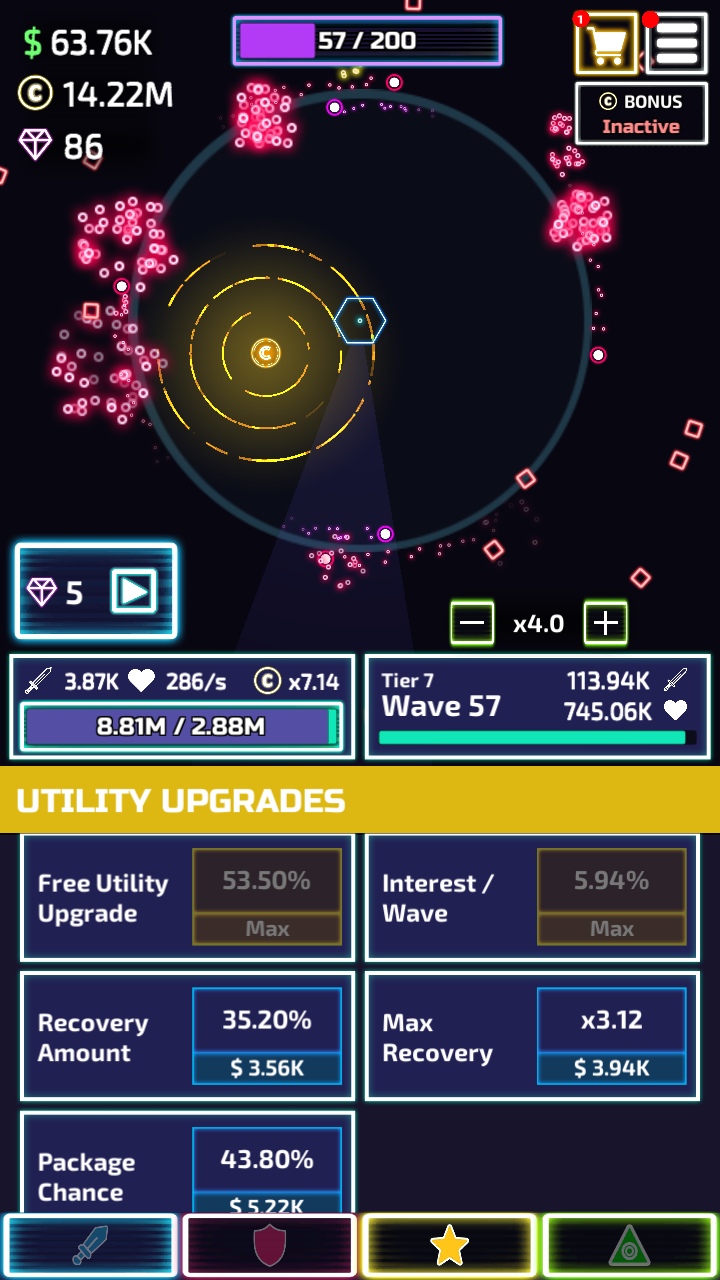B_Gem_Ad: (14, 540, 179, 637)
B_Menu_Action_Required: (638, 7, 703, 70)
B_Menu_Closed: (572, 9, 707, 74)
B_Slot: (18, 972, 355, 1092), (363, 836, 695, 956), (18, 838, 356, 954), (365, 972, 698, 1087), (357, 1100, 709, 1204), (20, 1113, 347, 1212)
B_Slot_Button: (188, 990, 344, 1085), (533, 989, 686, 1083), (533, 850, 686, 944), (190, 850, 342, 944), (186, 1128, 344, 1213)
B_Slot_Label: (22, 863, 175, 932), (370, 1007, 508, 1074), (22, 1007, 163, 1072), (369, 862, 506, 928), (25, 1143, 151, 1207)
B_Slot_Maxed: (188, 848, 344, 947), (533, 850, 680, 947)
B_Slot_Price: (212, 1049, 313, 1084), (559, 1051, 661, 1085)
B_Slot_Value: (198, 1137, 324, 1177), (206, 999, 323, 1036), (206, 863, 324, 898), (554, 863, 658, 899), (561, 1001, 657, 1039)
B_Tab_Utility: (0, 765, 720, 836)
